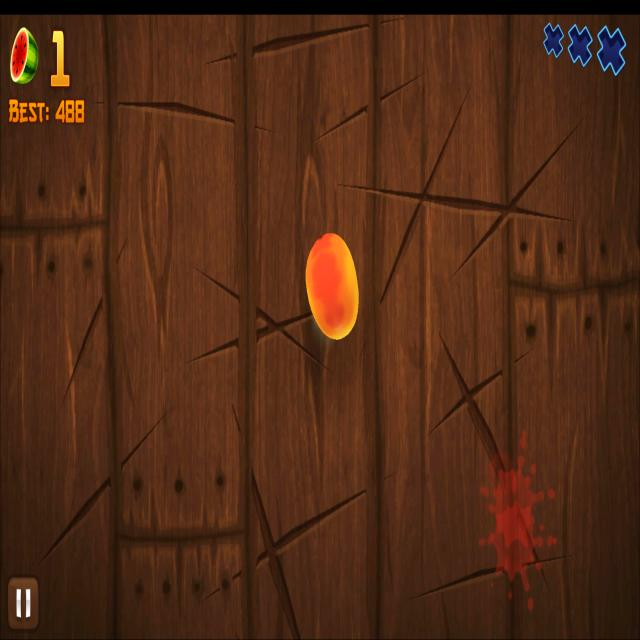fruit: (305, 231, 359, 341)
